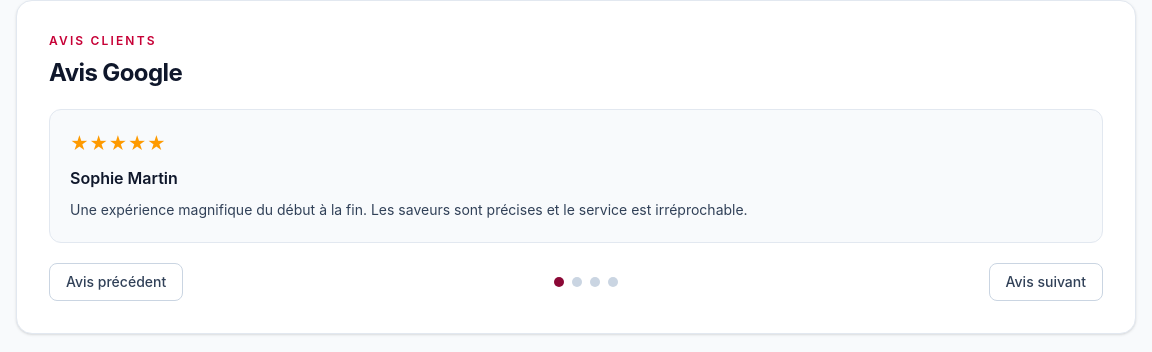
it: GoogleReviewsSection › renders first review and navigates between reviews
The image size is (1152, 352).
expect the heading "Avis Google" is shown: met, box [49, 58, 182, 87]
expect the heading "Sophie Martin" is shown: met, box [70, 168, 178, 188]
Click the button "Avis suivant" at (1046, 282), box [989, 263, 1103, 301]
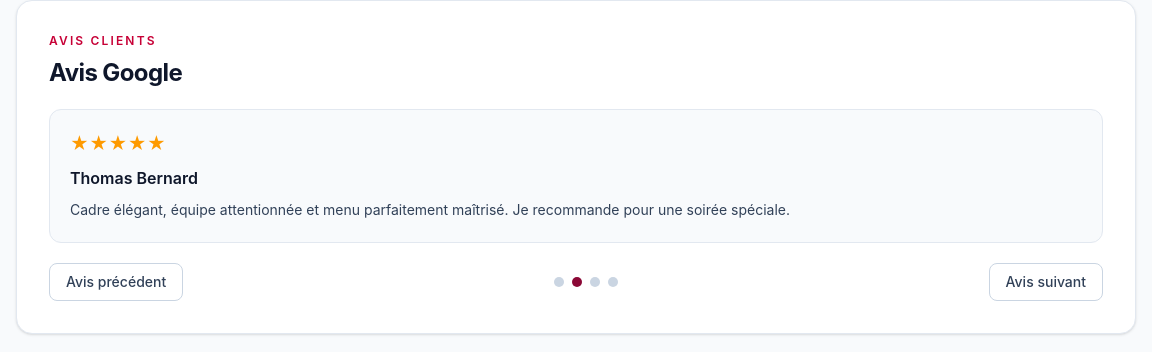
expect the heading "Thomas Bernard" is shown: met, box [70, 168, 198, 188]
Click the button "Avis précédent" at (116, 282), box [49, 263, 183, 301]
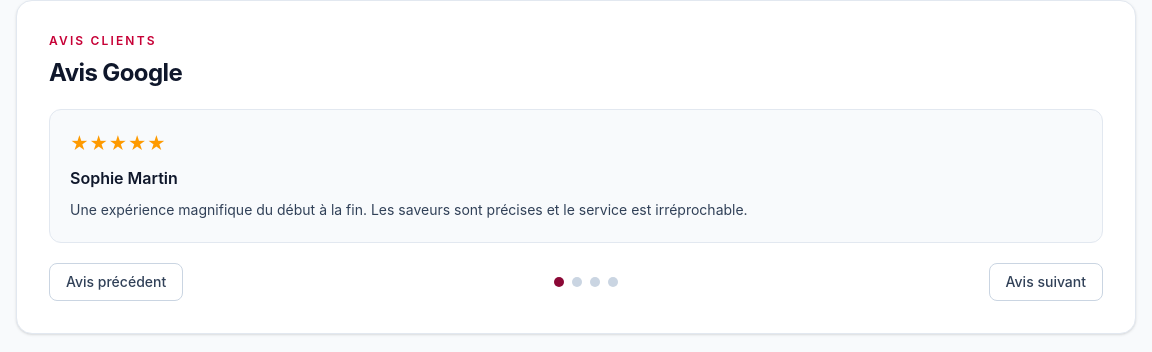
expect the heading "Sophie Martin" is shown: met, box [70, 168, 178, 188]
